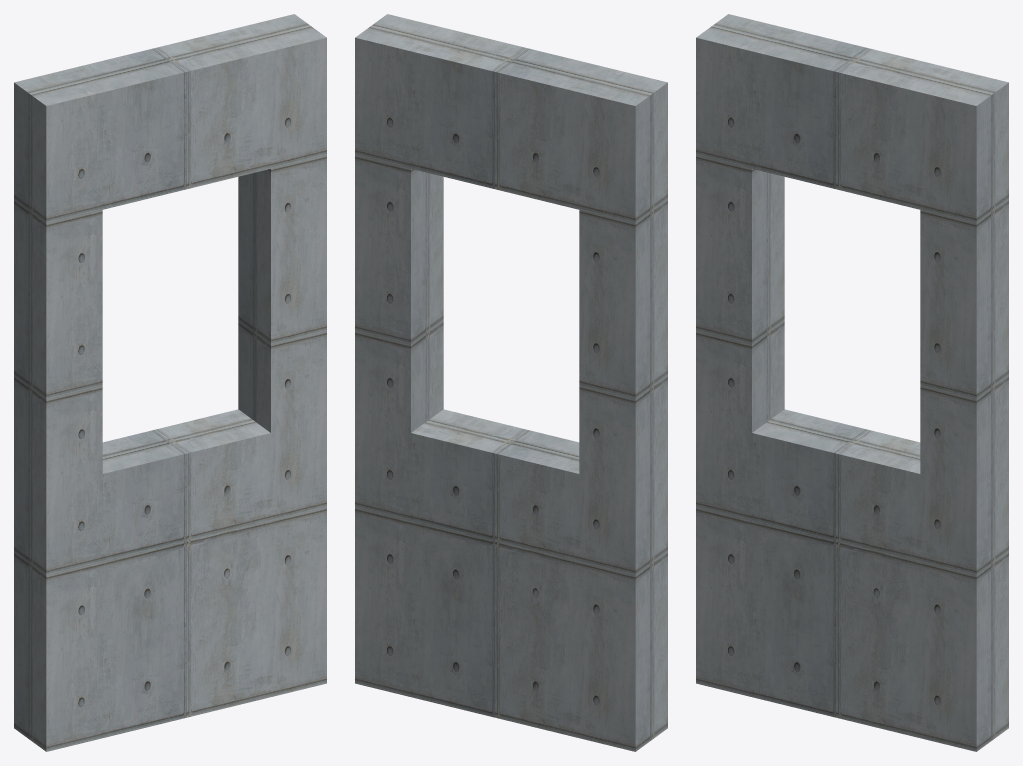
Rendered from Window.fbx.
3 renders of one model, left to right at view 1: azimuth 30°, elevation 25°; view 2: azimuth 150°, elevation 25°; view 3: azimuth 330°, elevation 25°, orthographic.
Visible parts, largest first — view 1: Group1; view 2: Group1; view 3: Group1.
Boxes of the visible parts, x1=… form: Group1: x1=14, y1=14, x2=326, y2=751; Group1: x1=355, y1=14, x2=667, y2=751; Group1: x1=696, y1=14, x2=1008, y2=751.
Bounding box in the file's own units: 1 × 2.2 × 0.2.
